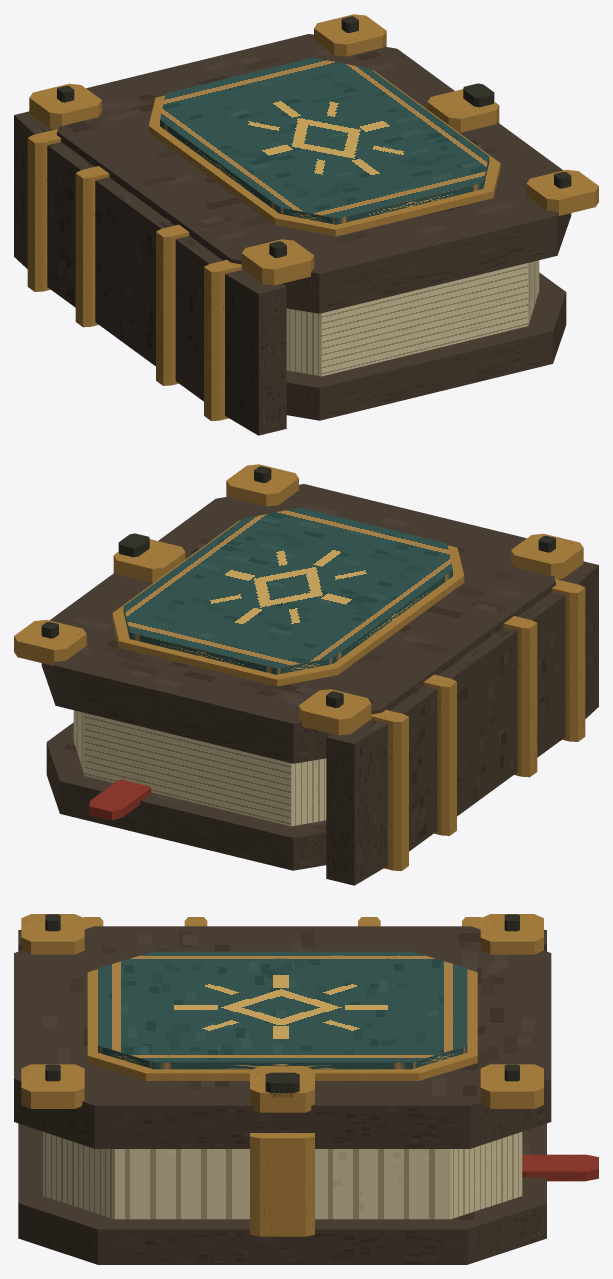
Rendered from lore_book.glb.
3 views of the same model, one above another, from view 1: azimuth 30°, elevation 25°; view 2: azimuth 150°, elevation 25°; view 3: azimuth 270°, elevation 25° (orthographic). The views are drawn at different scales.
Parts seen in each view (by area): view 1: Lore_Book; view 2: Lore_Book; view 3: Lore_Book.
Boxes of the visible parts, x1,y1,x2,y2 form: Lore_Book: (14,14,598,435); Lore_Book: (14,464,598,885); Lore_Book: (14,914,598,1264).
Bounding box in the file's own units: 0.54 × 0.2415 × 0.675.
Materials: 1 (1 with a texture image).
